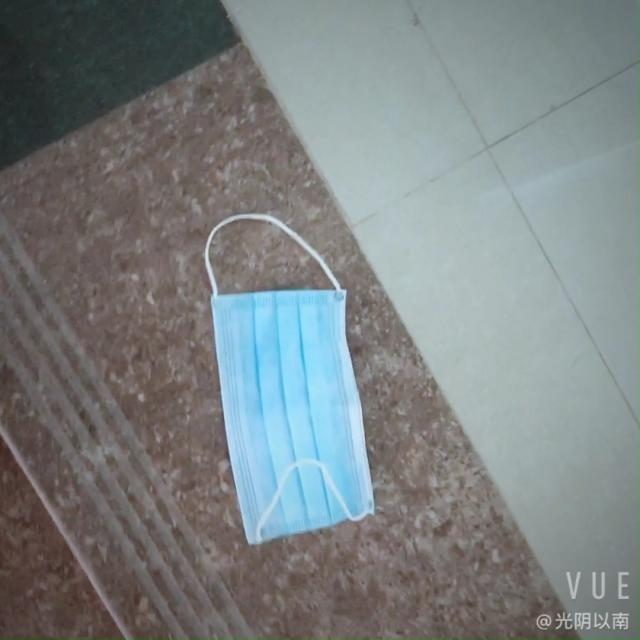non-organic waste: (200, 281, 368, 538)
